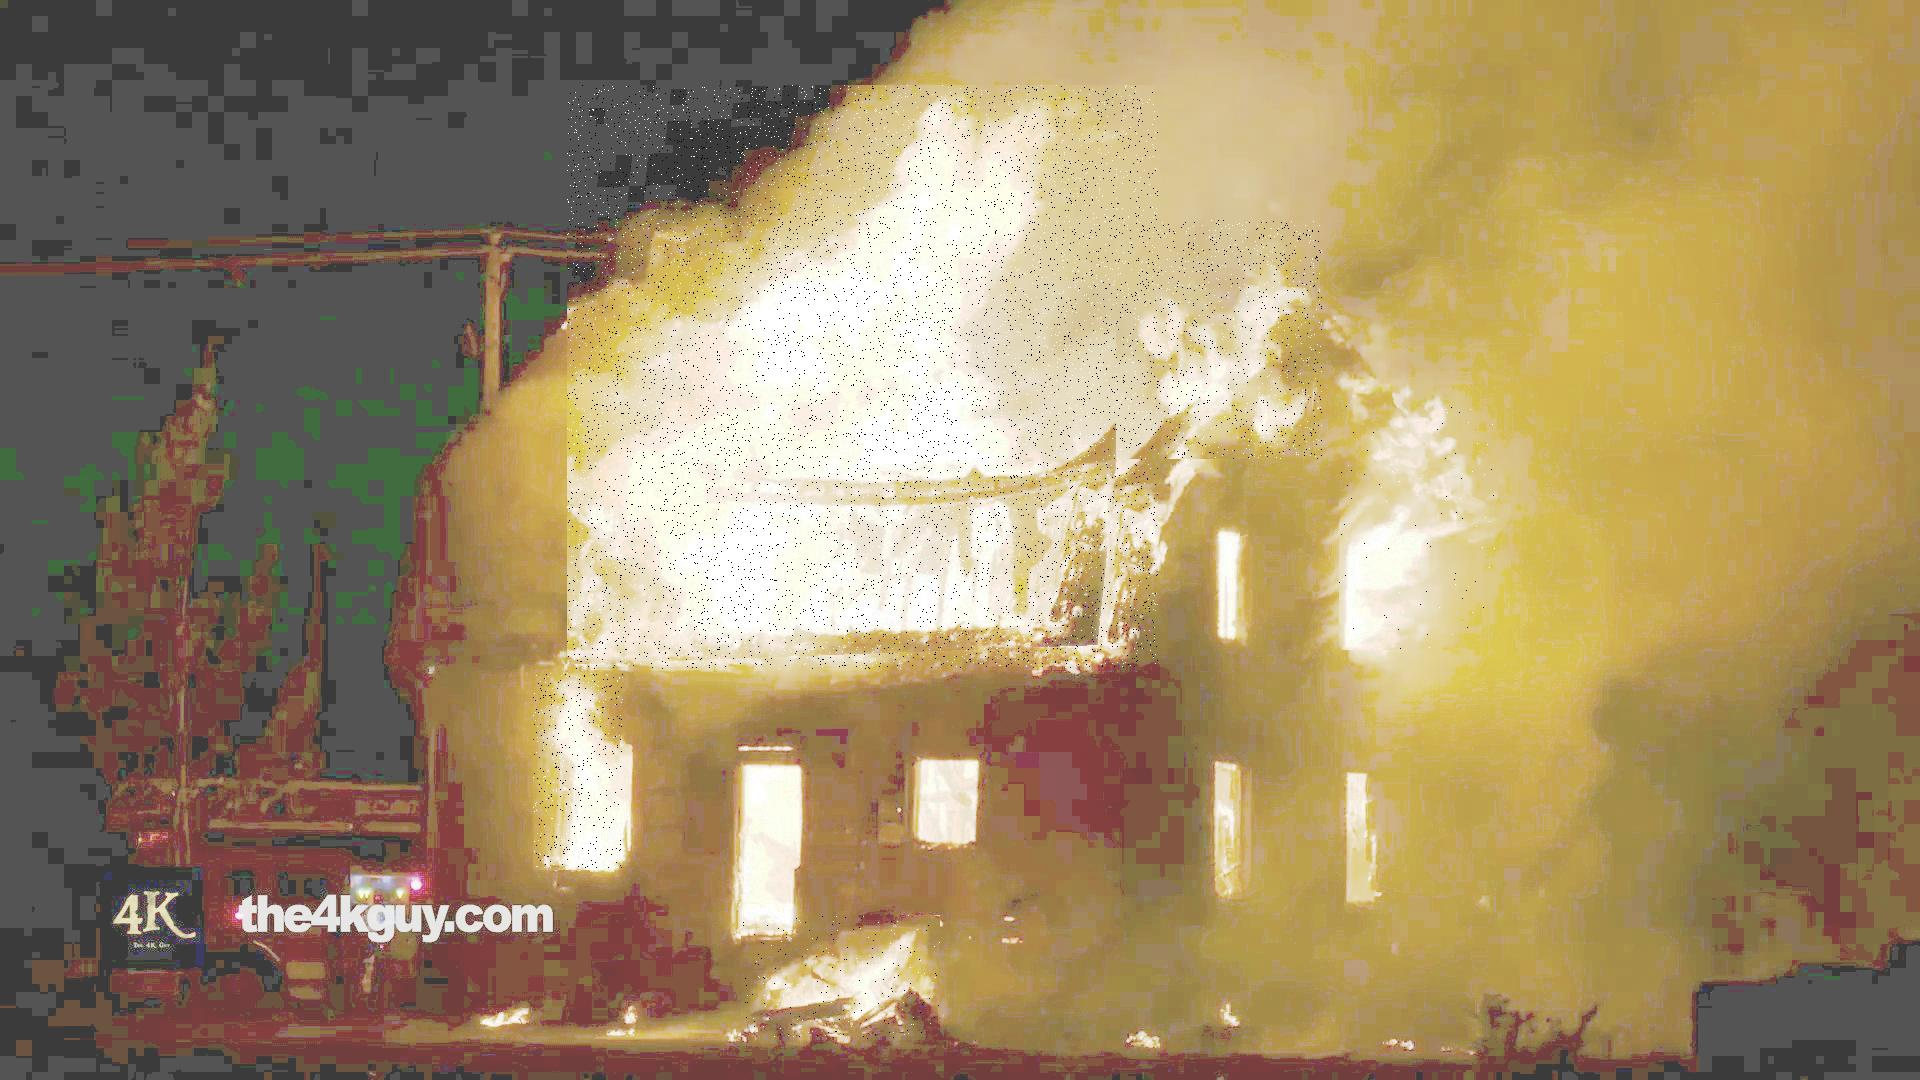fire: (567, 86, 1158, 670), (1117, 220, 1323, 459), (1340, 404, 1495, 650), (741, 915, 940, 1040), (533, 673, 622, 870)
